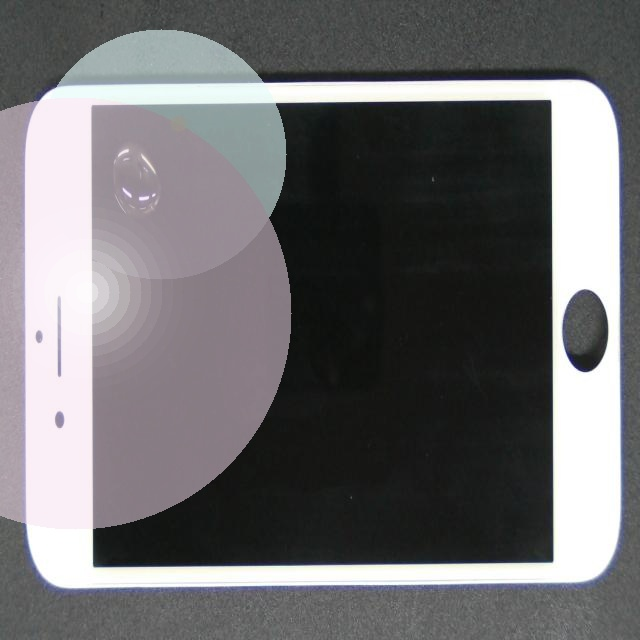oil: (83, 103, 241, 257)
